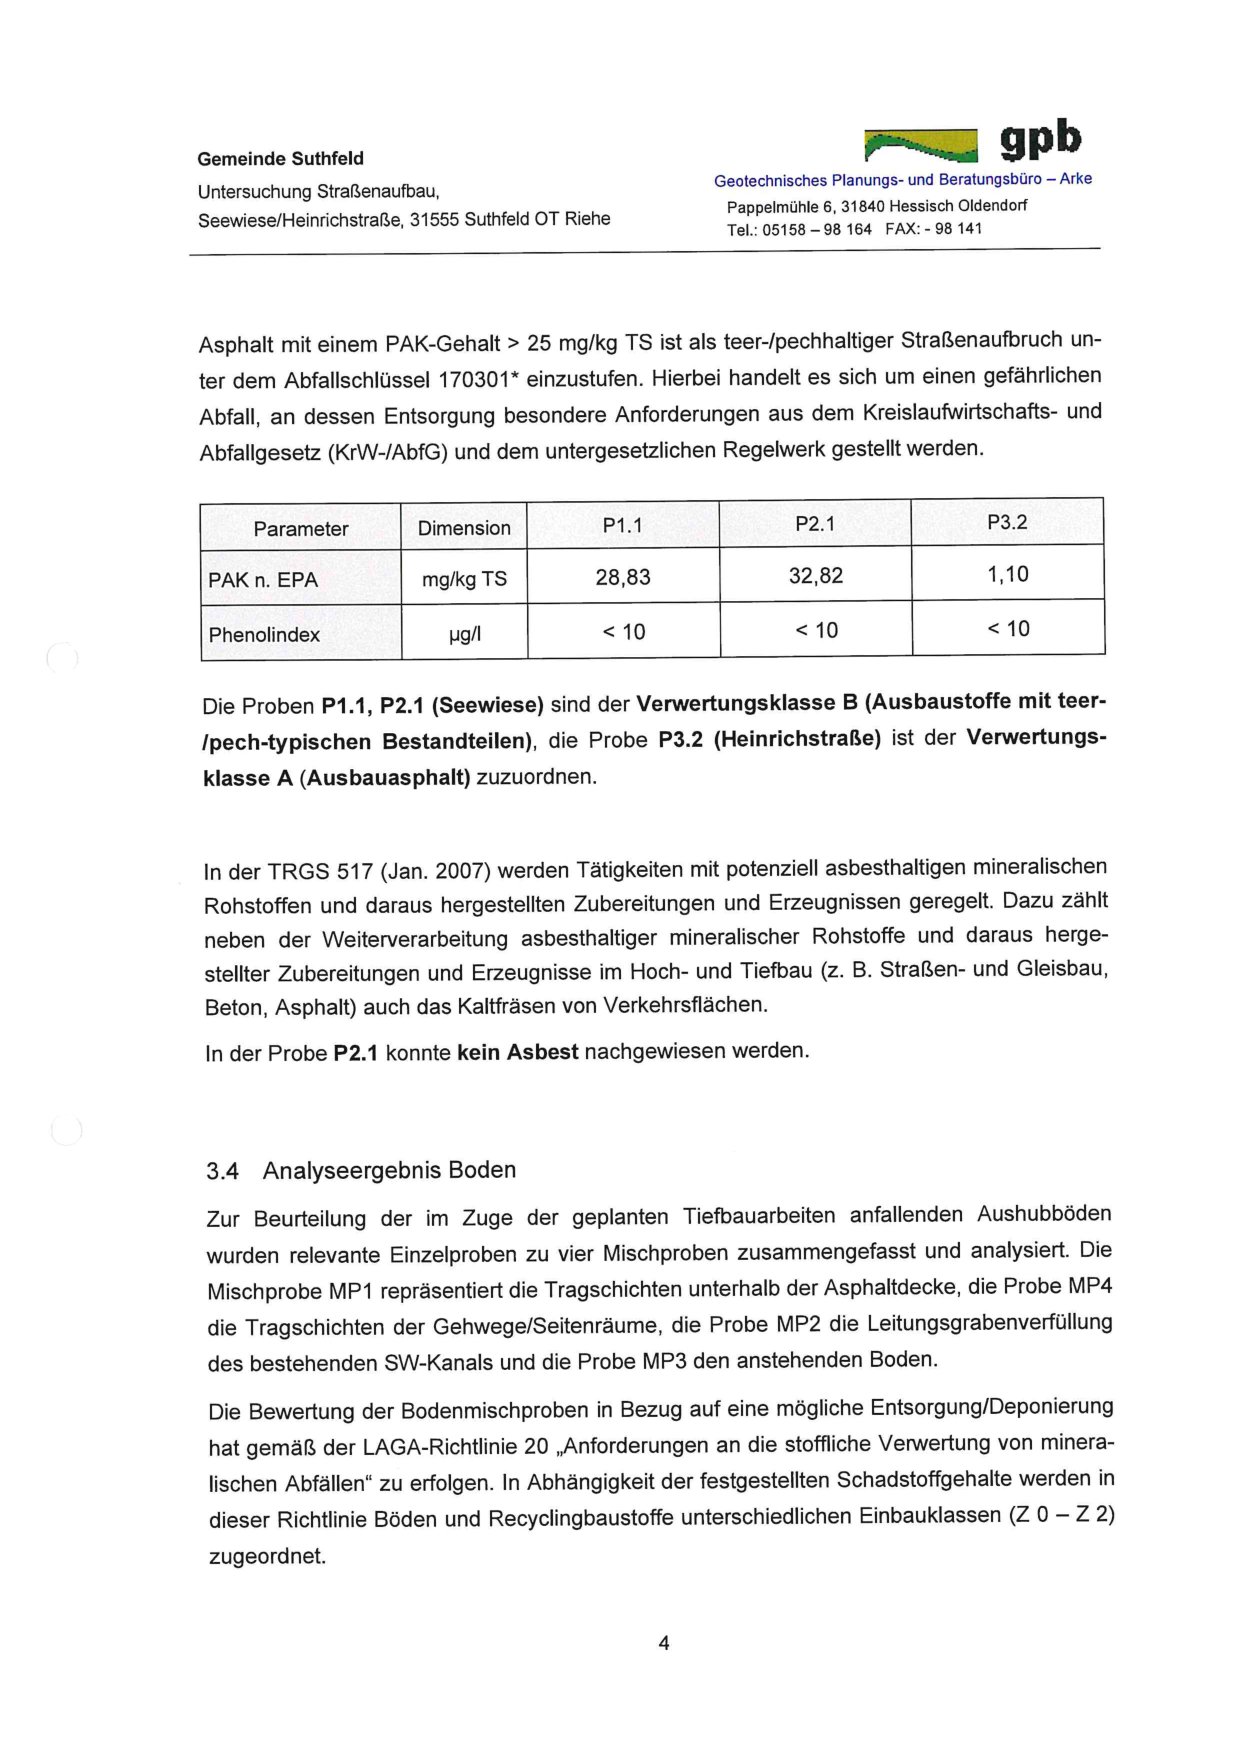table: (172, 493, 1117, 671)
